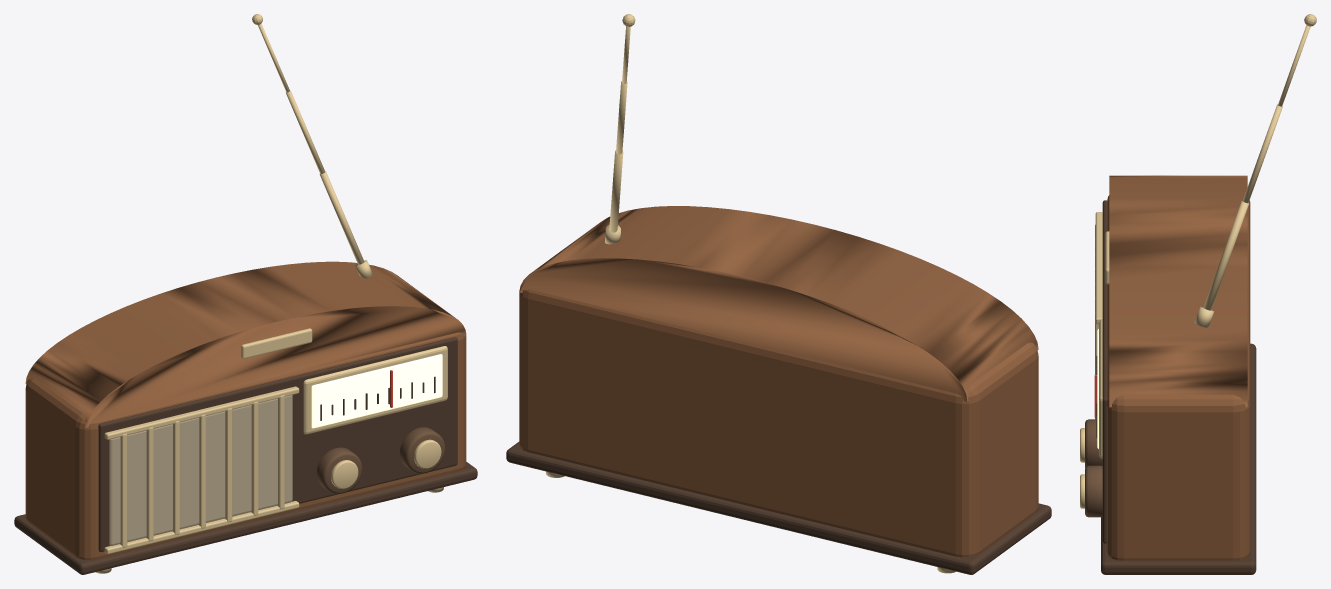
File: radio.glb
3 views of the same model, side by side, from view 1: azimuth 30°, elevation 25°; view 2: azimuth 150°, elevation 25°; view 3: azimuth 270°, elevation 25° (orthographic). The views are drawn at different scales.
Visible parts, largest first — view 1: radio; view 2: radio; view 3: radio.
Part boxes in pixels (left/top/right/bottom): radio: left=14, top=14, right=477, bottom=574; radio: left=506, top=14, right=1051, bottom=574; radio: left=1080, top=14, right=1316, bottom=574.
Size of the model in its own units: 0.91 by 0.9593 by 0.4113.
